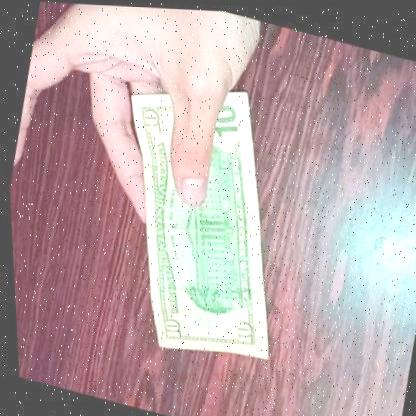ten-back: (75, 60, 316, 377)
